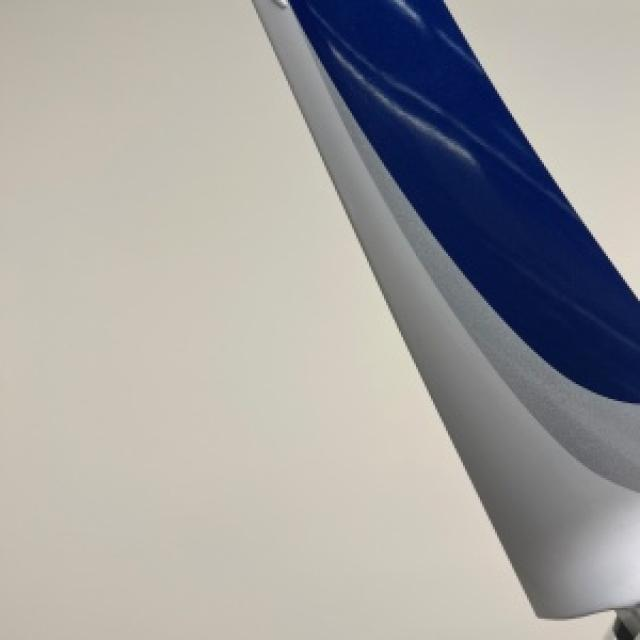healthy: (254, 0, 638, 634)
